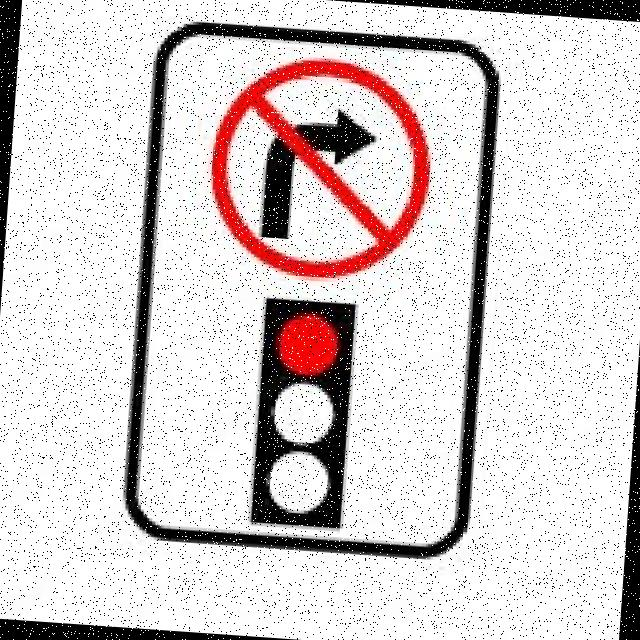do_not_turn_right: (199, 44, 442, 286)
